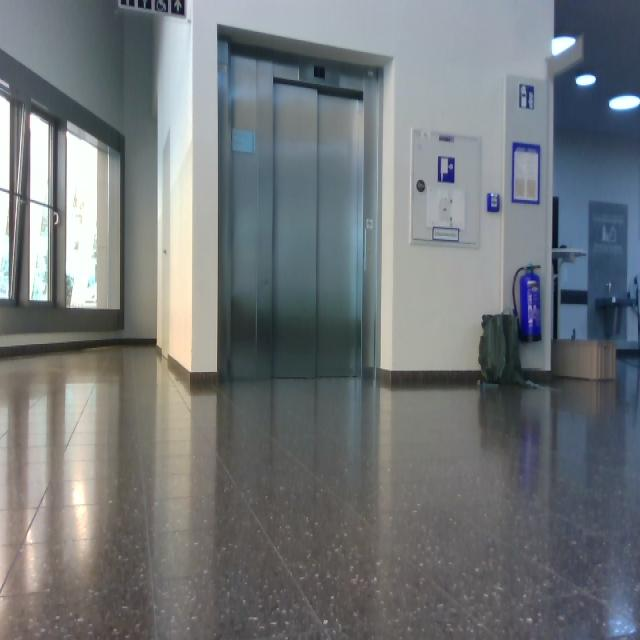door: (218, 40, 382, 381), (271, 76, 363, 379)
fire extinguisher: (511, 263, 541, 341)
light bulb: (608, 93, 639, 111), (550, 35, 575, 56), (574, 72, 595, 87)
tiled floor: (0, 342, 638, 638)
window: (0, 72, 124, 331)
